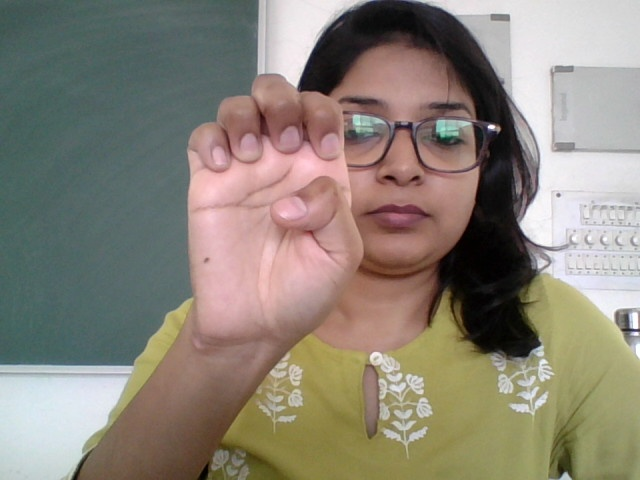E: (177, 70, 368, 343)
